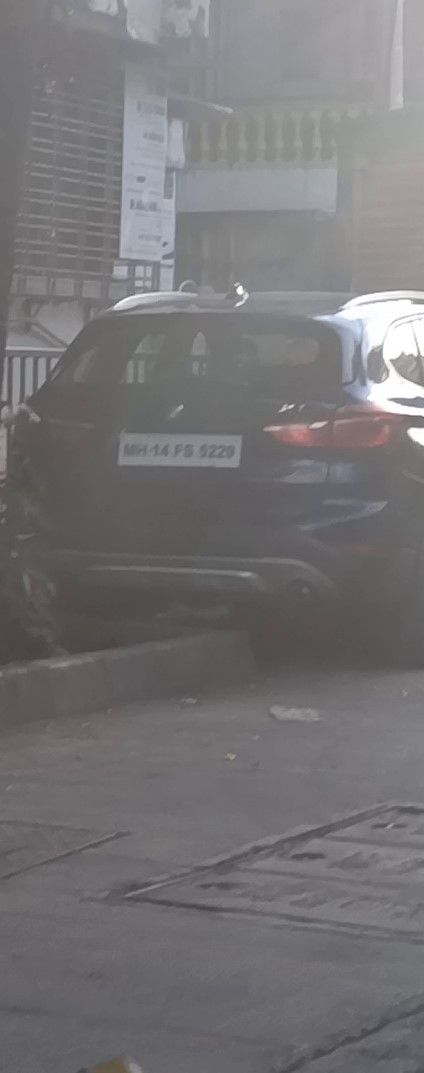MH14FS5229: (115, 427, 244, 467)
